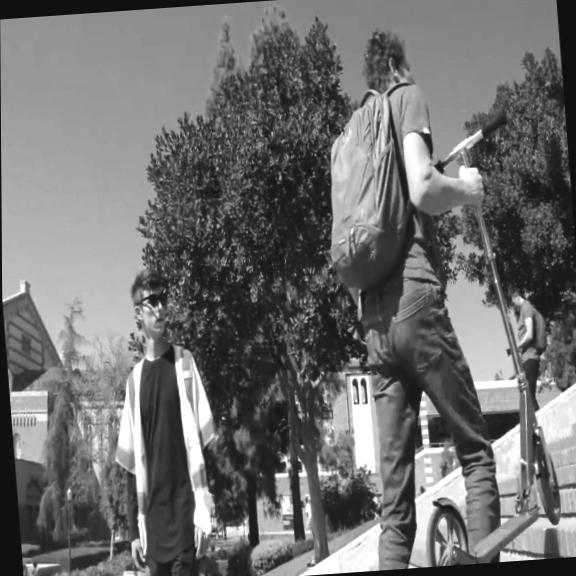safety_vest: (104, 342, 230, 554)
